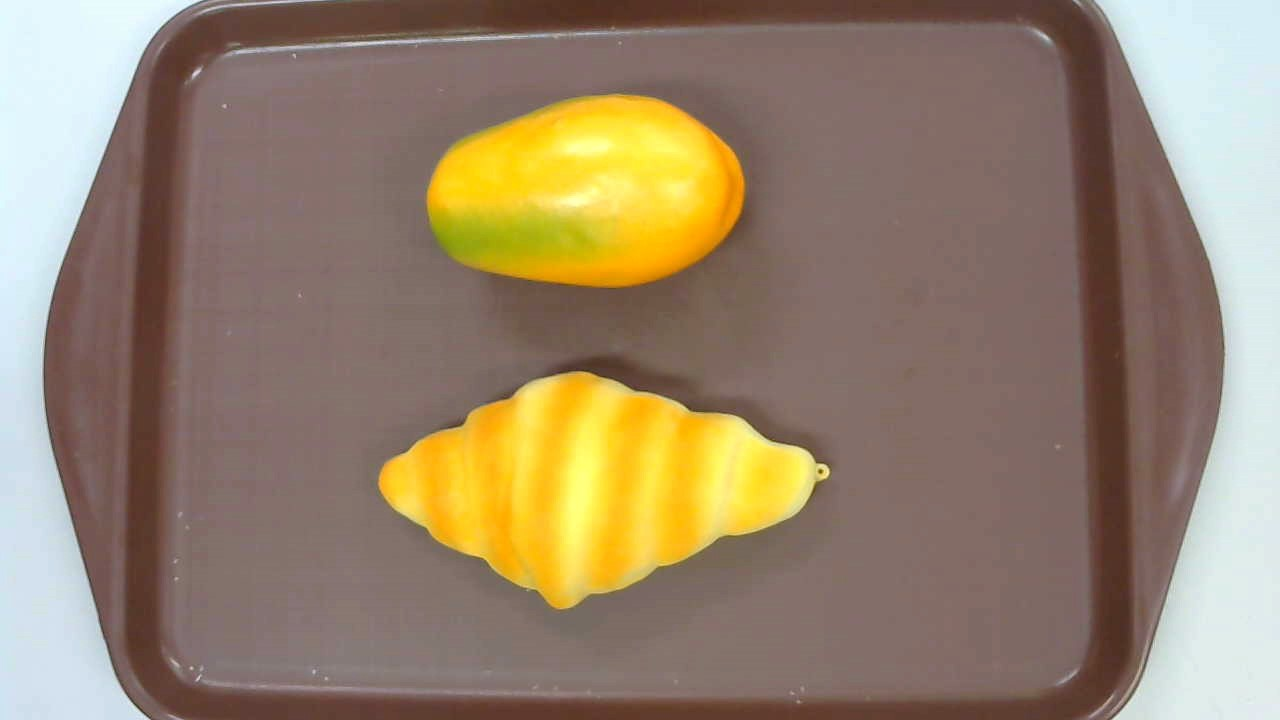croissant: (379, 371, 831, 608)
papya: (424, 94, 746, 289)
